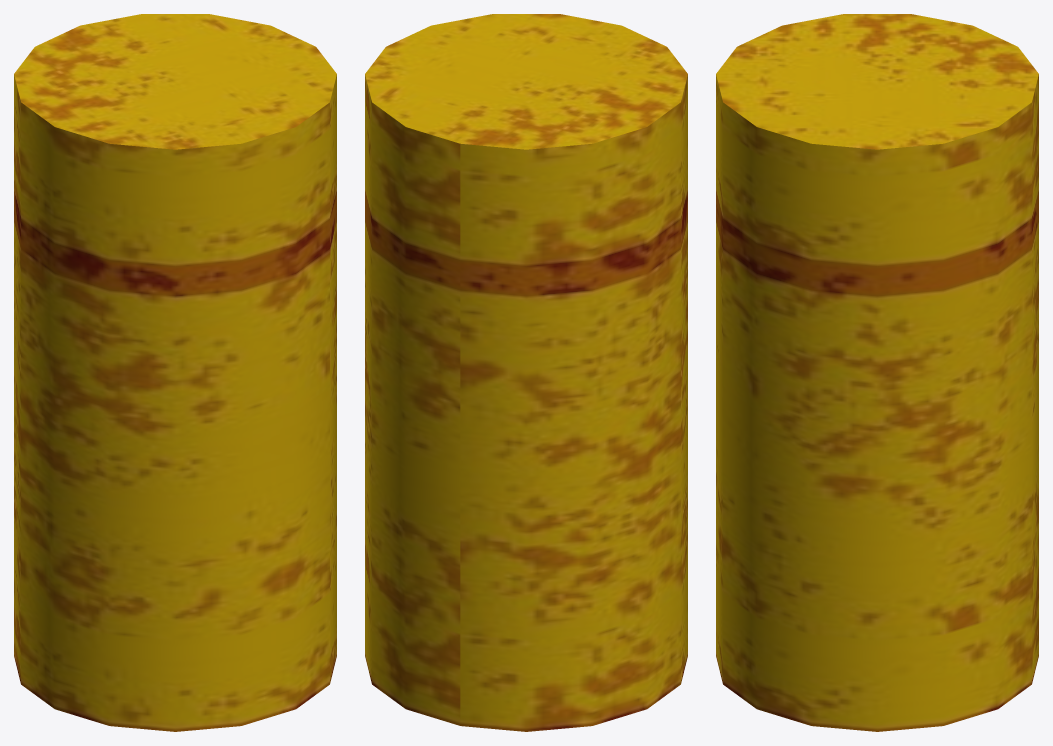
The model's file is spentCase_.fbx.
3 views of the same model, side by side, from view 1: azimuth 30°, elevation 25°; view 2: azimuth 150°, elevation 25°; view 3: azimuth 270°, elevation 25° (orthographic).
Visible parts, largest first — view 1: pCylinder1; view 2: pCylinder1; view 3: pCylinder1.
Part boxes in pixels (box(x1,y1,x2,y2)): pCylinder1: box(14, 14, 336, 731); pCylinder1: box(365, 14, 687, 731); pCylinder1: box(716, 14, 1038, 731).
Bounding box in the file's own units: 1.38 × 2.77 × 1.39.
Materials: 1 (1 with a texture image).
